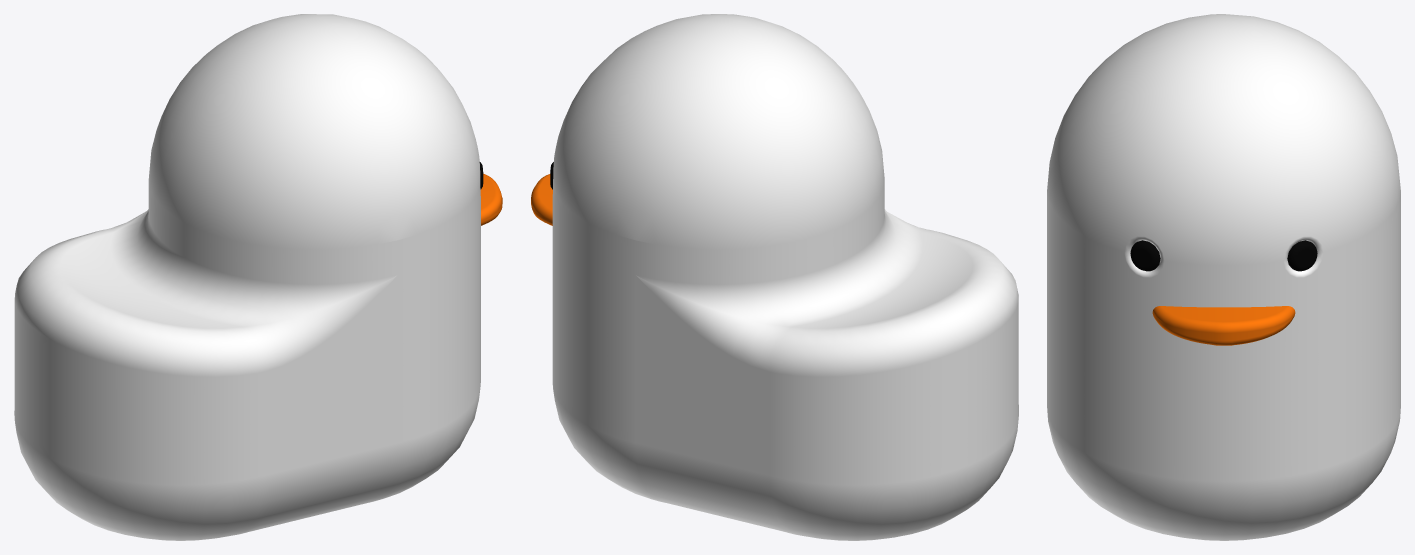
File: duck_lamp.glb
3 renders of one model, left to right at view 1: azimuth 30°, elevation 25°; view 2: azimuth 150°, elevation 25°; view 3: azimuth 270°, elevation 25°, orthographic. The views are drawn at different scales.
Visible parts, largest first — view 1: duck_lamp; view 2: duck_lamp; view 3: duck_lamp.
Boxes of the visible parts, <box> form: duck_lamp: <box>14,14,502,540</box>; duck_lamp: <box>531,14,1018,540</box>; duck_lamp: <box>1047,14,1400,540</box>.
Bounding box in the file's own units: 0.1191 × 0.11 × 0.075.
Materials: 1 (1 with a texture image).
